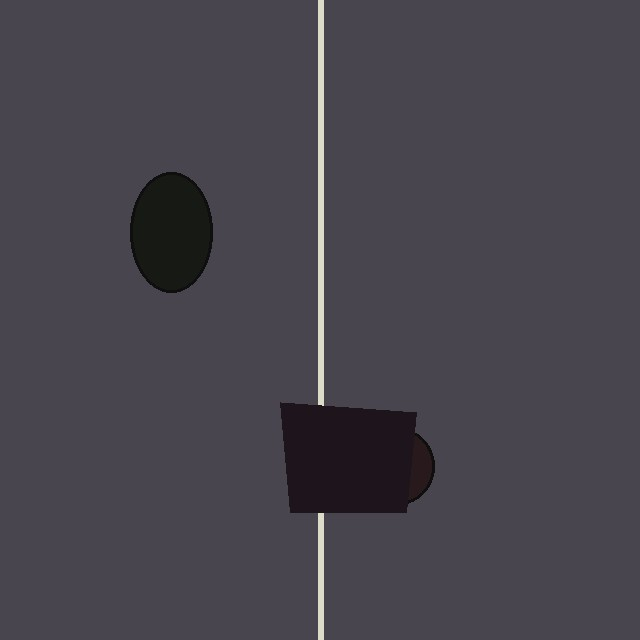damaged_surface: (280, 402, 416, 512)
pothole: (130, 172, 212, 292), (362, 428, 434, 504)
